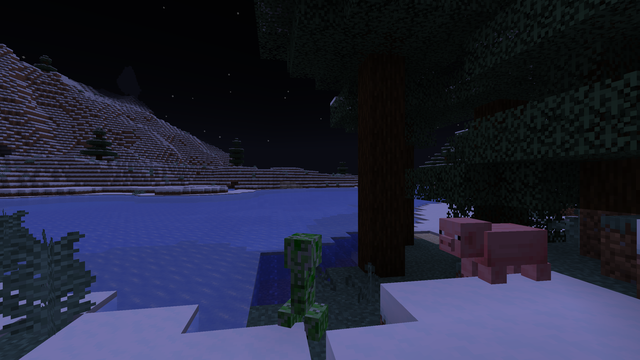cochons: (454, 220, 553, 297)
creepers: (285, 228, 322, 340)
